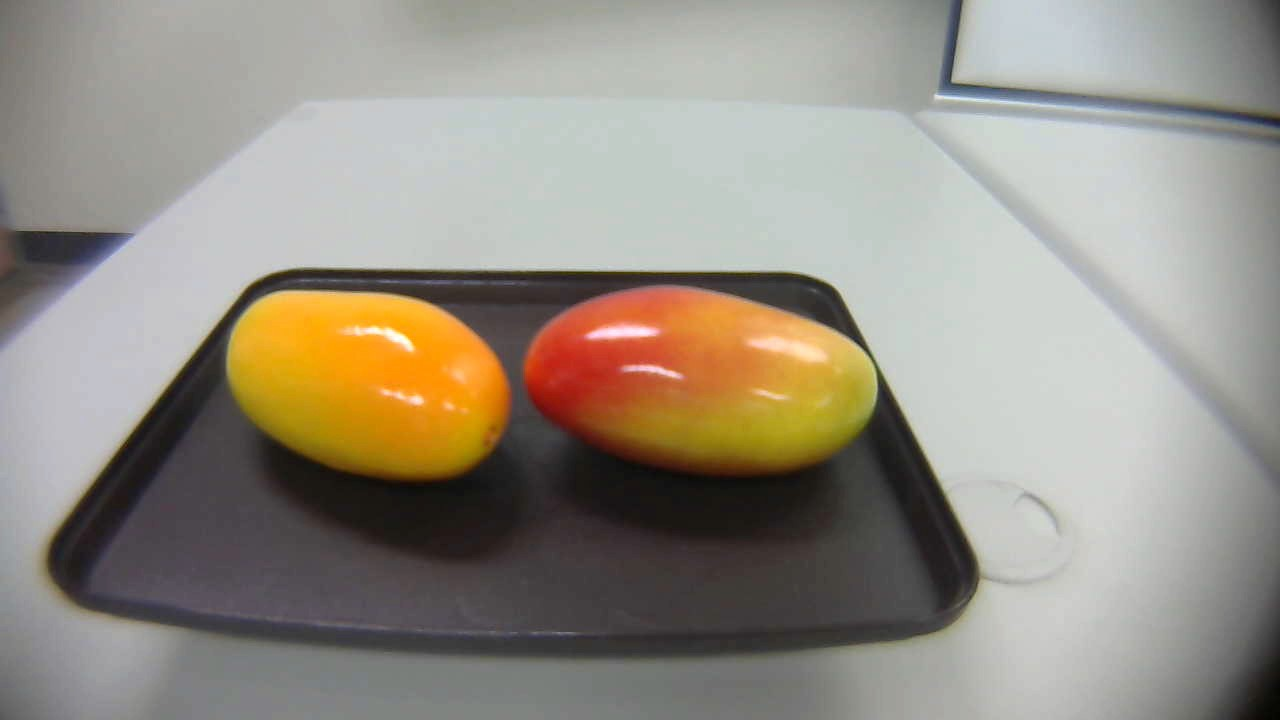red mango: (520, 279, 888, 480)
yellow mango: (222, 288, 514, 487)
